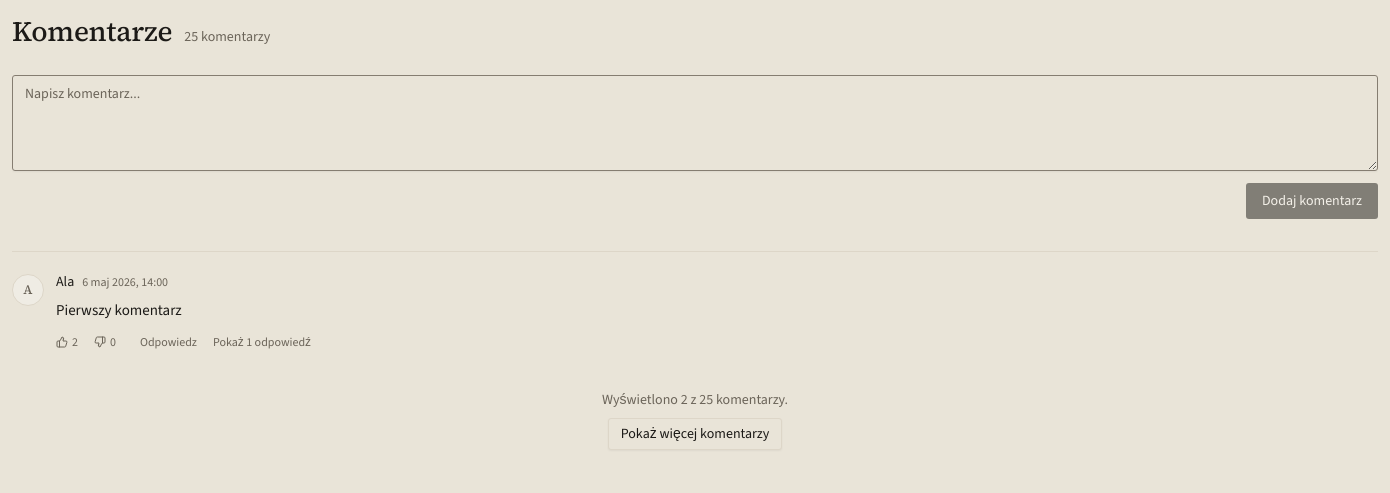
Test: ArticleComments › shows an error when the next page can't be loaded
Click the button "Pokaż więcej komentarzy": (695, 434) [608,418,782,450]
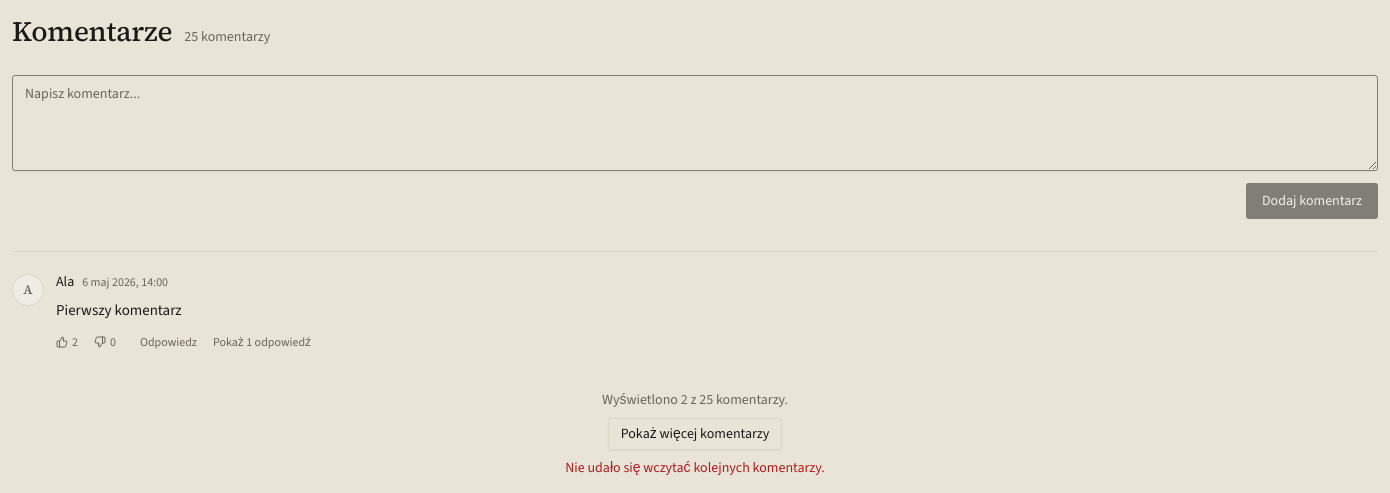
Expected: the message reads "Nie udało się wczytać kolejnych komentarzy.", [565,458,825,477]
